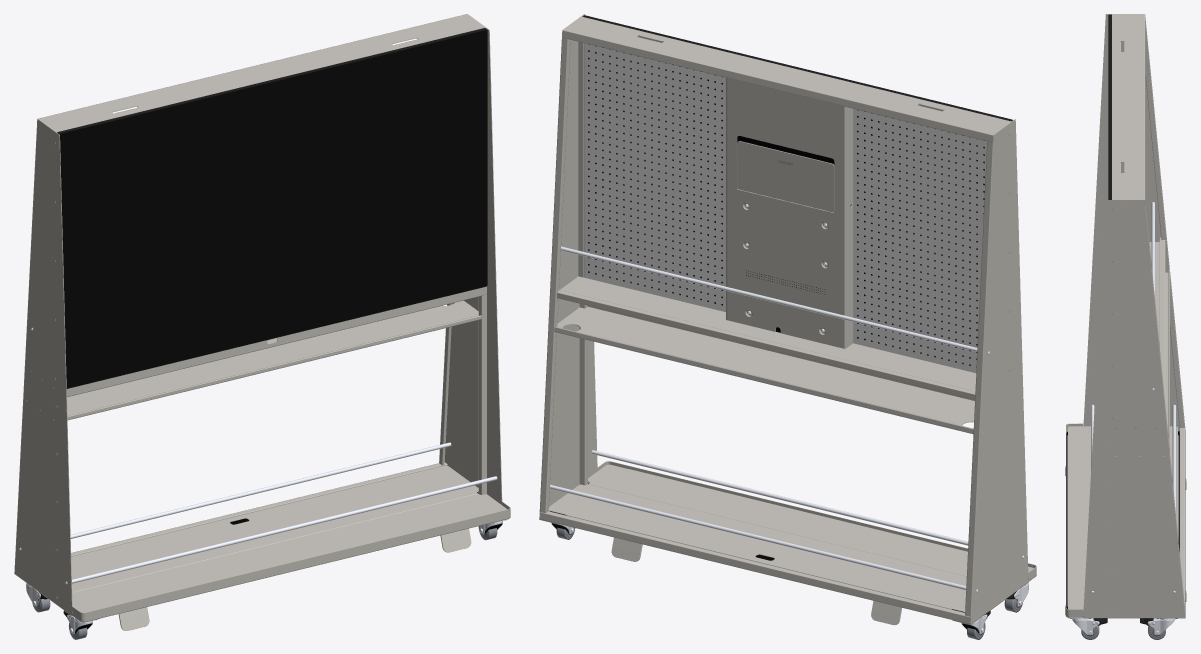
3 renders of one model, left to right at view 1: azimuth 30°, elevation 25°; view 2: azimuth 150°, elevation 25°; view 3: azimuth 270°, elevation 25°, orthographic. The views are drawn at different scales.
Parts seen in each view (by area): view 1: 21510344; view 2: 21510344; view 3: 21510344.
Boxes of the visible parts, x1,y1,x2,y2 form: 21510344: (14, 14, 510, 639); 21510344: (539, 14, 1036, 639); 21510344: (1065, 14, 1186, 639).
Size of the model in its own units: 1.23 by 1.36 by 0.337.
1 material, 1 textured.
